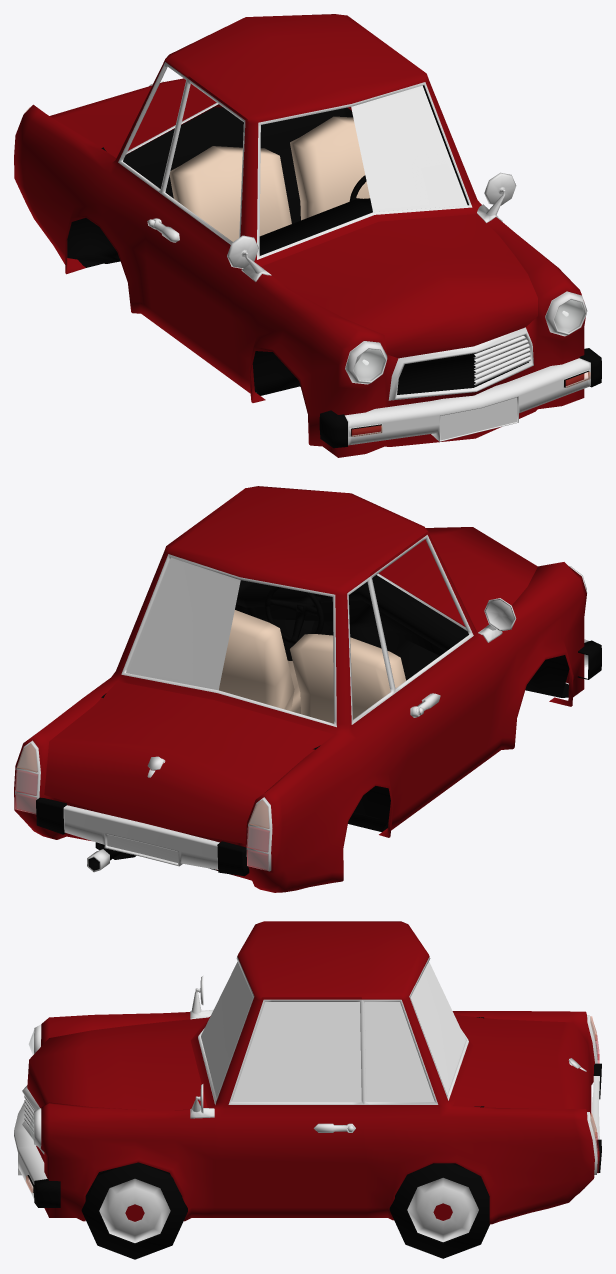
The model's file is Car.glb.
The picture shows the model from 3 angles, top to bottom: view 1: azimuth 30°, elevation 25°; view 2: azimuth 150°, elevation 25°; view 3: azimuth 270°, elevation 25°; orthographic projection. The views are drawn at different scales.
Parts seen in each view (by area): view 1: cotxe base, cotxe base.002, interior.001, cotxe base.003, vidres, interior, parachoc, cotxe base.005, cotxe base.007, miralls, matricula, reixeta redidaor (+1 smaller); view 2: cotxe base, cotxe base.005, cotxe base.003, interior.001, vidres, cotxe base.002, interior, paraxoc trase, cotxe base.007, llums, volant, miralls (+3 smaller); view 3: cotxe base, vidres, cotxe base.003, cotxe base.002, cotxe base.005, Cylinder.004, Cylinder.003, parachoc, miralls, paraxoc trase.
Part boxes in pixels (x1,y1,x2,y2): cotxe base: [14, 14, 587, 457]; cotxe base.002: [261, 214, 537, 358]; interior.001: [169, 116, 369, 241]; cotxe base.003: [144, 76, 247, 371]; vidres: [351, 85, 467, 212]; interior: [101, 107, 372, 381]; parachoc: [319, 348, 601, 448]; cotxe base.005: [50, 78, 216, 158]; cotxe base.007: [67, 218, 300, 395]; miralls: [227, 172, 516, 281]; matricula: [441, 398, 517, 440]; reixeta redidaor: [474, 335, 530, 385]; cotxe base: [14, 486, 587, 892]; cotxe base.005: [44, 681, 334, 843]; cotxe base.003: [370, 532, 494, 811]; interior.001: [219, 610, 406, 723]; vidres: [126, 557, 240, 690]; cotxe base.002: [379, 527, 537, 632]; interior: [101, 575, 468, 819]; paraxoc trase: [36, 797, 249, 876]; cotxe base.007: [210, 619, 569, 876]; llums: [15, 744, 269, 870]; volant: [264, 586, 324, 644]; miralls: [478, 598, 516, 642]; cotxe base: [22, 921, 597, 1224]; vidres: [201, 961, 465, 1102]; cotxe base.003: [220, 997, 366, 1207]; cotxe base.002: [27, 1017, 207, 1110]; cotxe base.005: [453, 1015, 591, 1115]; Cylinder.004: [81, 1162, 187, 1259]; Cylinder.003: [389, 1163, 489, 1258]; parachoc: [14, 1102, 60, 1207]; miralls: [190, 976, 214, 1118]; paraxoc trase: [591, 1063, 601, 1172].
Size of the model in its own units: 1.94 by 1.89 by 3.96.
